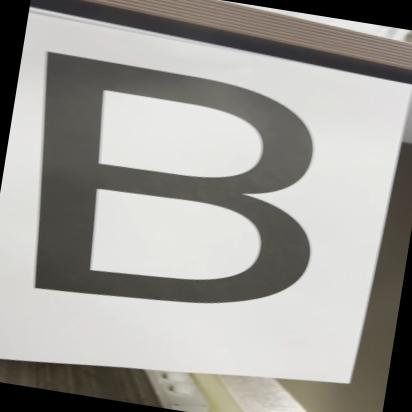seat: (0, 40, 372, 340)
